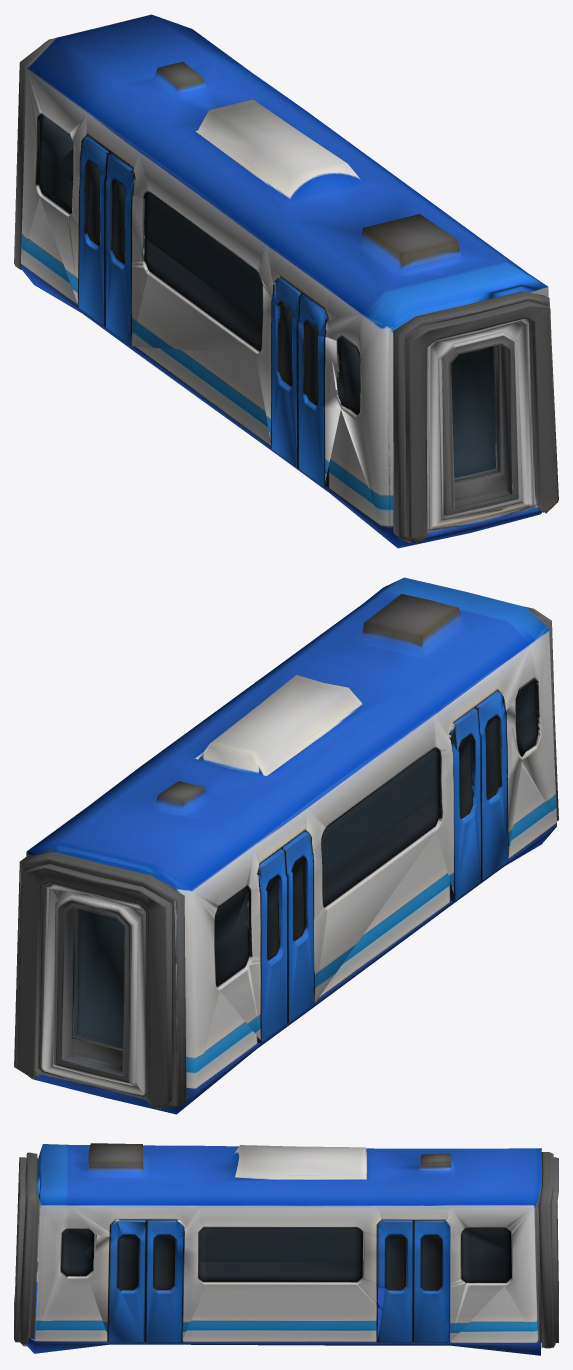
The model's file is train+car+3d+model.glb.
The picture shows the model from 3 angles, top to bottom: view 1: azimuth 30°, elevation 25°; view 2: azimuth 150°, elevation 25°; view 3: azimuth 270°, elevation 25°; orthographic projection. The views are drawn at different scales.
Visible parts, largest first — view 1: tripo_node_e8d7ae91-defc-45c5-b24c-97374980c3fd; view 2: tripo_node_e8d7ae91-defc-45c5-b24c-97374980c3fd; view 3: tripo_node_e8d7ae91-defc-45c5-b24c-97374980c3fd.
Part boxes in pixels (bbox=[...]): tripo_node_e8d7ae91-defc-45c5-b24c-97374980c3fd: bbox=[14, 14, 558, 548]; tripo_node_e8d7ae91-defc-45c5-b24c-97374980c3fd: bbox=[14, 577, 558, 1114]; tripo_node_e8d7ae91-defc-45c5-b24c-97374980c3fd: bbox=[14, 1143, 558, 1355].
Size of the model in its own units: 0.2715 by 0.3613 by 0.998.
Materials: 1 (1 with a texture image).
